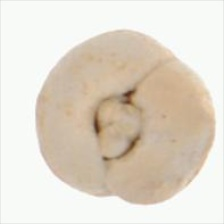L3: (86, 88, 149, 160)
L4: (35, 29, 218, 205)
